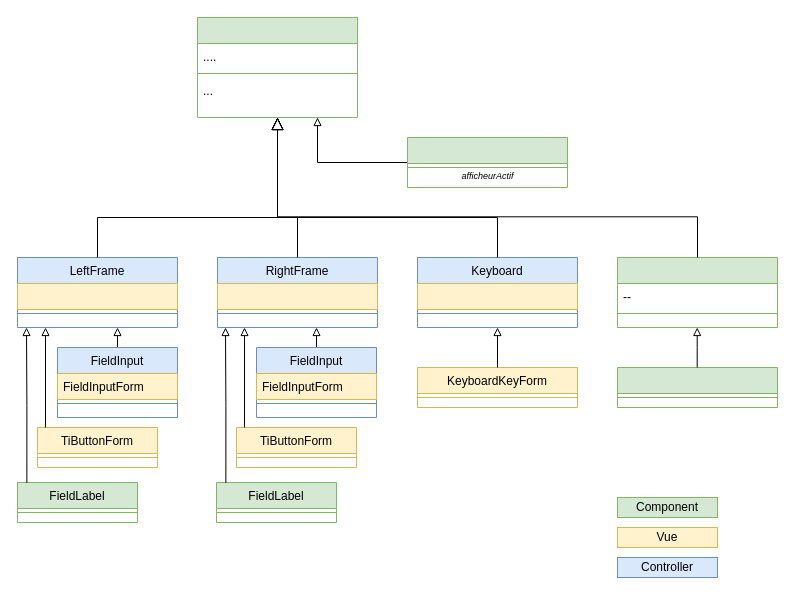
This 795x595 diagram has some shape labels left out. The box of each missing label's shape, as (x1, y1, x2, y2) in pixels:
ActiveDisplay: (406, 136, 568, 188)
CalculFrame: (616, 256, 778, 328)
FieldResult: (616, 366, 778, 408)
KeyboardForm: (416, 282, 578, 310)
LeftFrameForm: (16, 282, 178, 310)
Main: (196, 16, 358, 118)
RightFrameForm: (216, 282, 378, 310)
